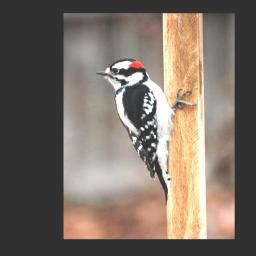Woodpecker: (96, 58, 197, 204)
